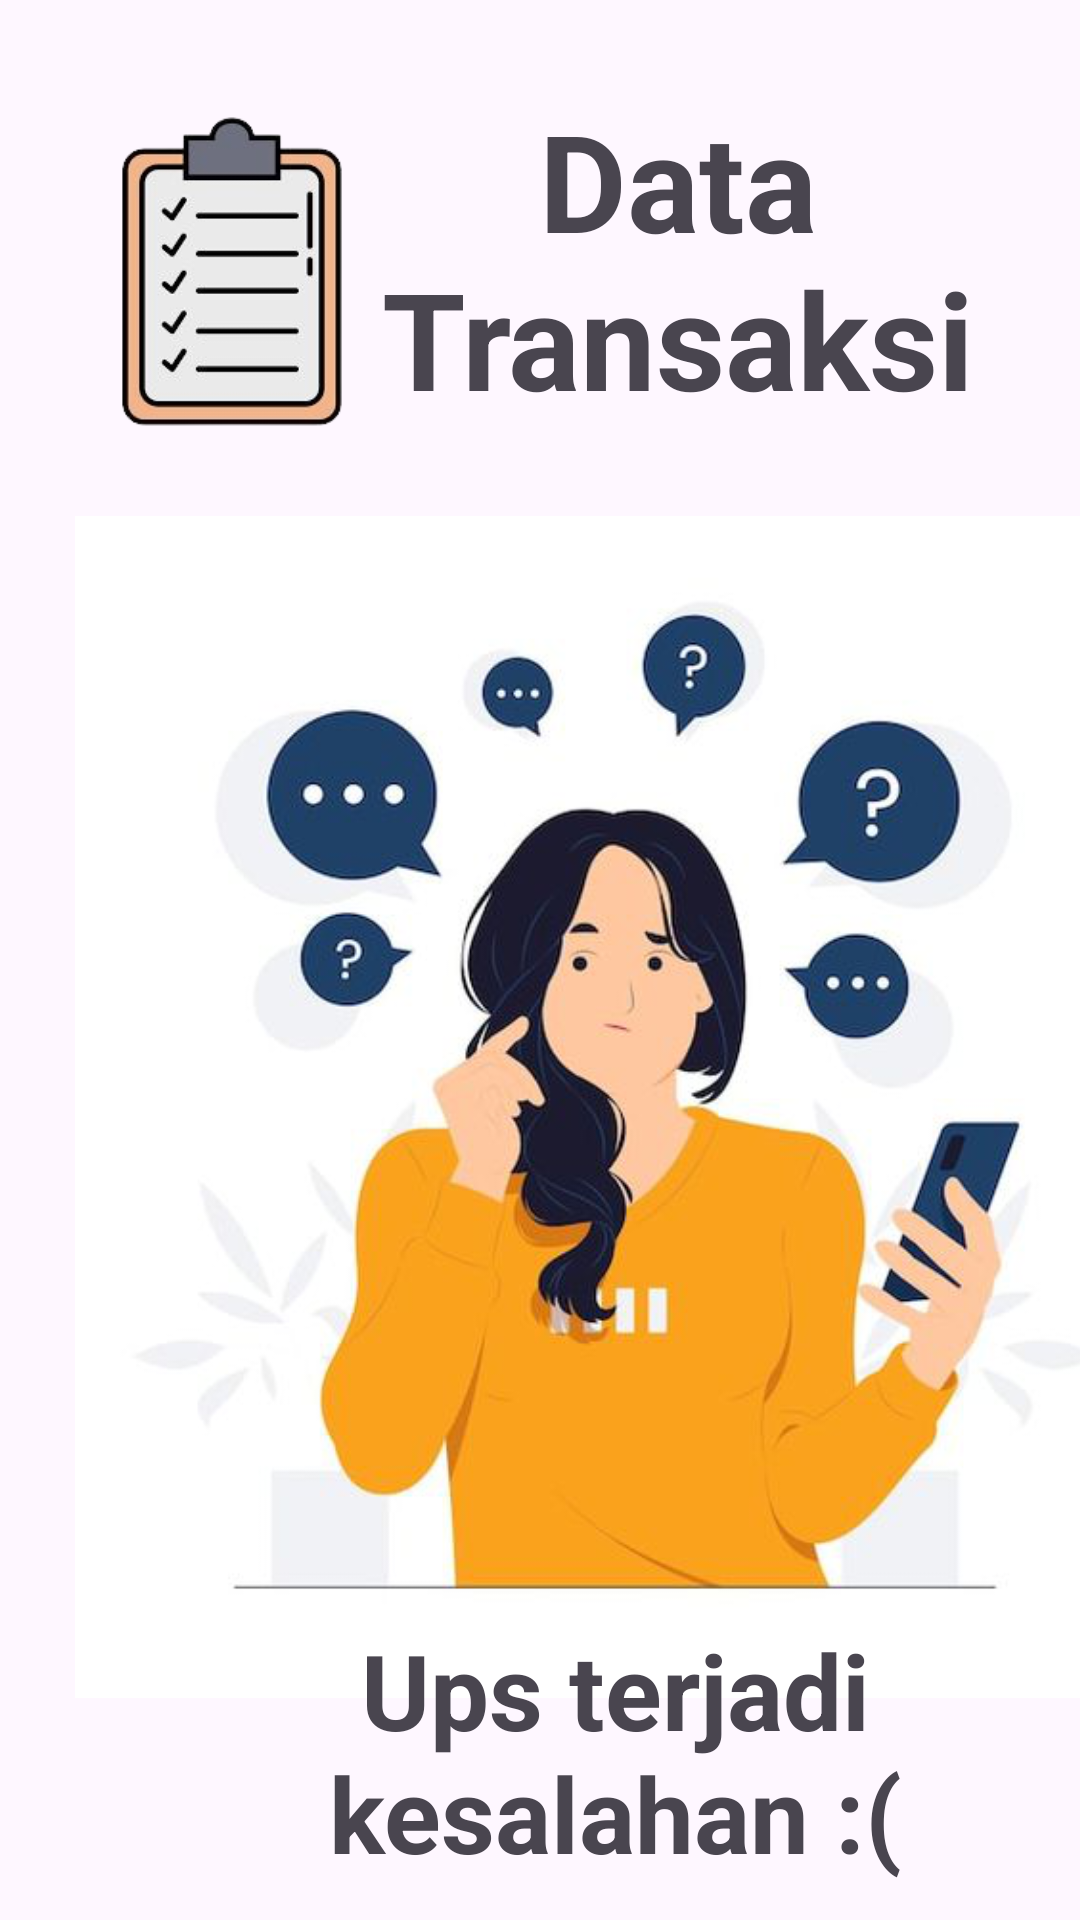

Screen size 1080w x 1920h. Icon name, then its center in pixels as [x,y]:
rekap: [232,271]
